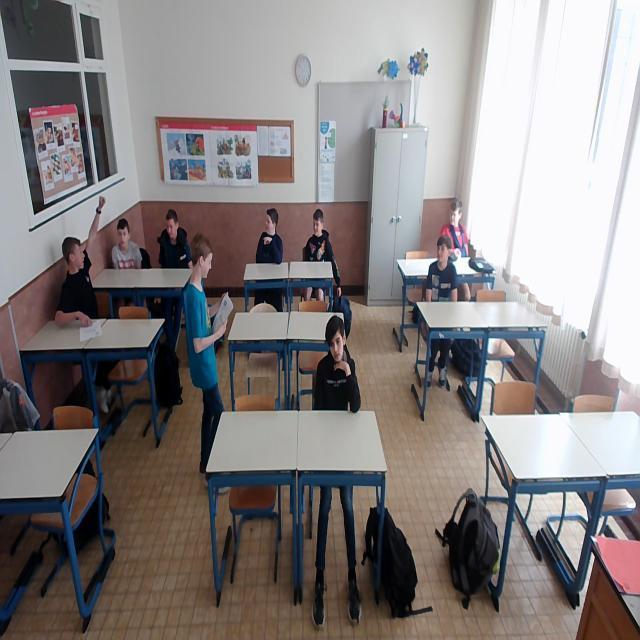Looking away: (428, 234, 458, 274), (110, 217, 138, 255), (260, 202, 285, 244), (308, 206, 332, 243), (444, 192, 464, 236), (163, 208, 185, 244)
Looking forward: (321, 317, 355, 371)
Raising hand: (48, 195, 104, 345)
Turning around: (182, 234, 232, 410)
